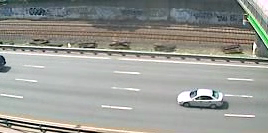car: (175, 87, 227, 111)
